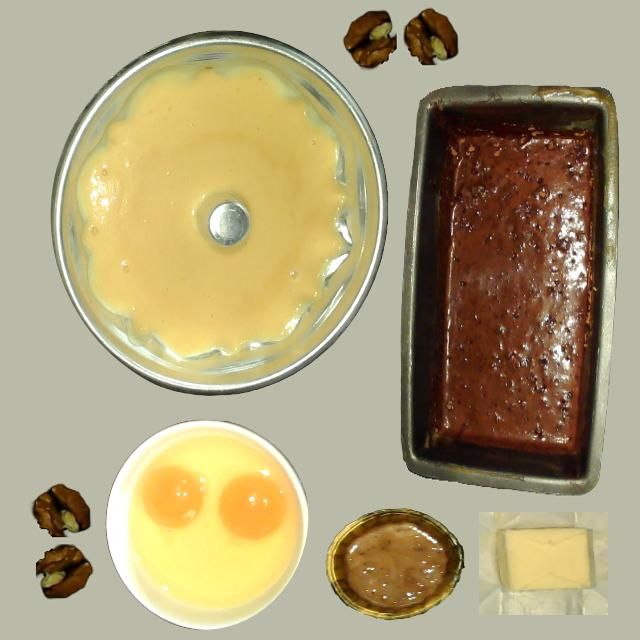Egg: (219, 474, 284, 540), (142, 467, 206, 528)
